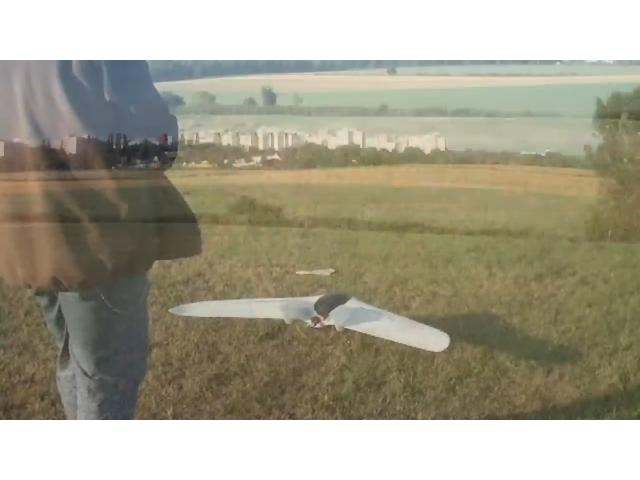Anti-Drone: (169, 281, 451, 365)
